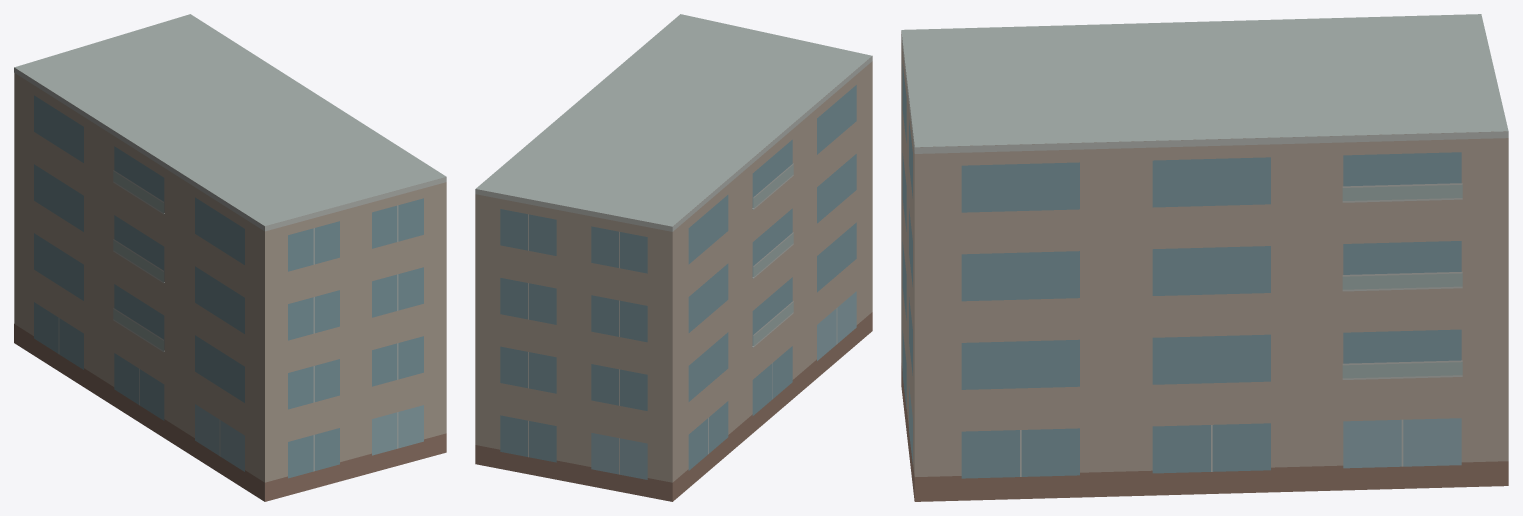
Rendered from survey-upis-32964455.glb.
The picture shows the model from 3 angles, left to right: view 1: azimuth 30°, elevation 25°; view 2: azimuth 150°, elevation 25°; view 3: azimuth 270°, elevation 25°; orthographic projection. The views are drawn at different scales.
Parts seen in each view (by area): view 1: survey-upis-32964455.tmp; view 2: survey-upis-32964455.tmp; view 3: survey-upis-32964455.tmp.
Part boxes in pixels (box(x1,y1,x2,y2)): survey-upis-32964455.tmp: box(14, 14, 446, 501); survey-upis-32964455.tmp: box(475, 14, 872, 501); survey-upis-32964455.tmp: box(901, 14, 1508, 501).
Size of the model in its own units: 10.33 by 12.8 by 19.88.
